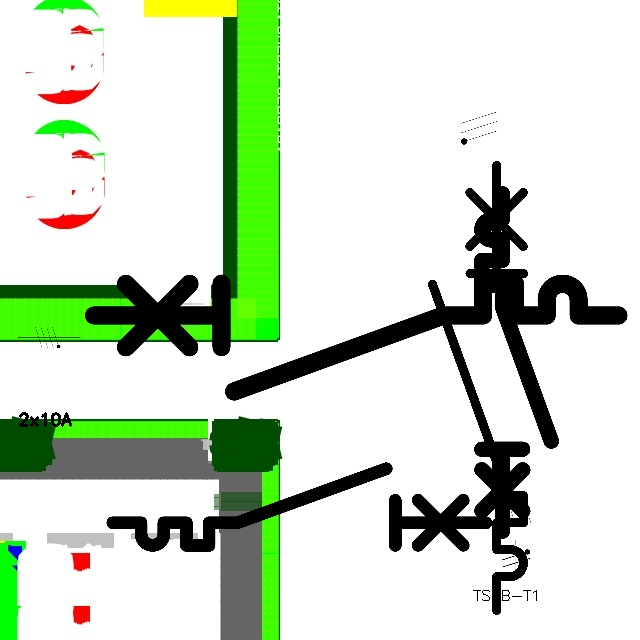interruptor_termomagnetico: (80, 270, 631, 405), (421, 153, 535, 621), (103, 459, 496, 555), (473, 185, 559, 539)
